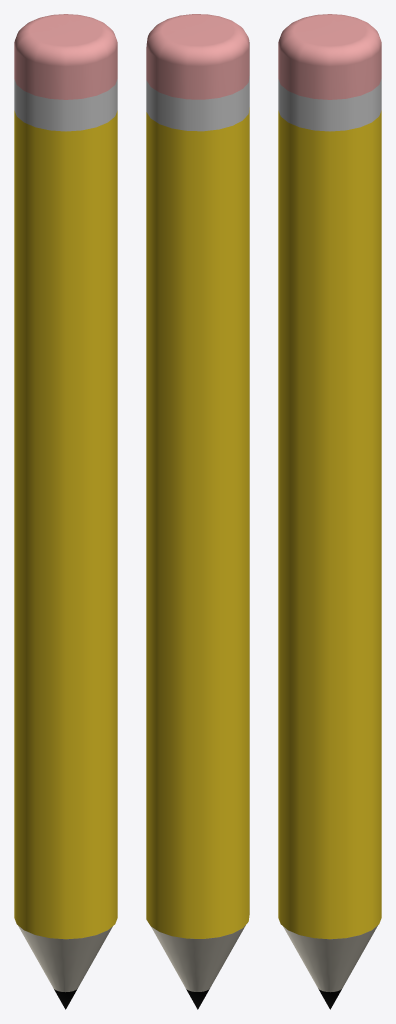
File: Pencil.fbx
The picture shows the model from 3 angles, left to right: view 1: azimuth 90°, elevation 25°; view 2: azimuth 150°, elevation 25°; view 3: azimuth 270°, elevation 25°; orthographic projection.
Visible parts, largest first — view 1: pCylinder1, pCone1; view 2: pCylinder1, pCone1; view 3: pCylinder1, pCone1.
Boxes of the visible parts, x1,y1,x2,y2 form: pCylinder1: [14, 14, 117, 939]; pCone1: [18, 925, 112, 1009]; pCylinder1: [146, 14, 249, 938]; pCone1: [151, 925, 245, 1009]; pCylinder1: [278, 14, 381, 939]; pCone1: [283, 925, 377, 1009].
Bounding box in the file's own units: 0.5957 × 6.21 × 0.5957.
